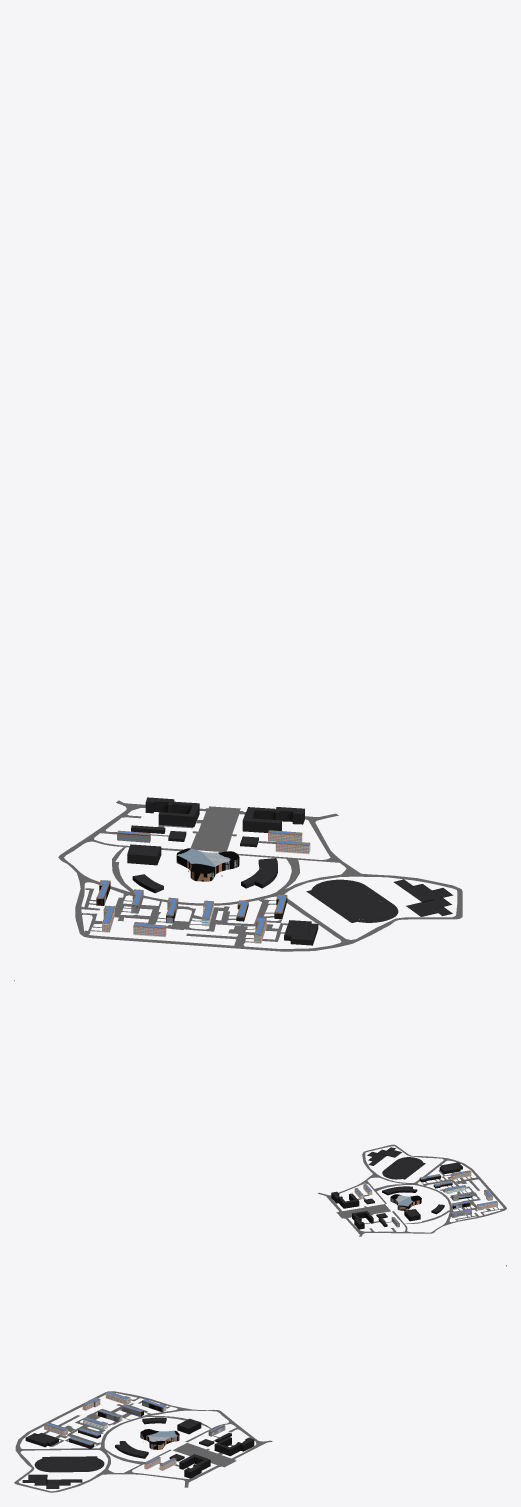
Rendered from hnjcxy3.glb.
3 views of the same model, one above another, from view 1: azimuth 30°, elevation 25°; view 2: azimuth 150°, elevation 25°; view 3: azimuth 270°, elevation 25° (orthographic). The views are drawn at different scales.
Parts seen in each view (by area): view 1: 47, 27, 11, 52, 46; view 2: 47, 27, 11, 46; view 3: 47, 27, 11, 46, 52, 44, 45, 24, 22, 49, 12, 29.
Part boxes in pixels (left/top/right/bottom): 47: left=75, top=866, right=380, bottom=951; 27: left=318, top=882, right=391, bottom=920; 11: left=176, top=848, right=239, bottom=881; 52: left=192, top=806, right=242, bottom=851; 46: left=58, top=847, right=272, bottom=907; 47: left=369, top=1156, right=506, bottom=1217; 27: left=385, top=1158, right=420, bottom=1177; 11: left=390, top=1194, right=421, bottom=1210; 46: left=405, top=1184, right=478, bottom=1233; 47: left=15, top=1391, right=148, bottom=1475; 27: left=38, top=1458, right=100, bottom=1470; 11: left=140, top=1429, right=179, bottom=1449; 46: left=100, top=1398, right=224, bottom=1446; 52: left=177, top=1445, right=236, bottom=1467; 44: left=185, top=1415, right=272, bottom=1458; 45: left=115, top=1449, right=219, bottom=1487; 24: left=179, top=1454, right=210, bottom=1470; 22: left=214, top=1437, right=240, bottom=1456; 49: left=14, top=1461, right=100, bottom=1492; 12: left=177, top=1418, right=201, bottom=1434; 29: left=34, top=1458, right=104, bottom=1472.
Size of the model in its own units: 1332 by 1004 by 1358.
Materials: 49 (43 with a texture image).
